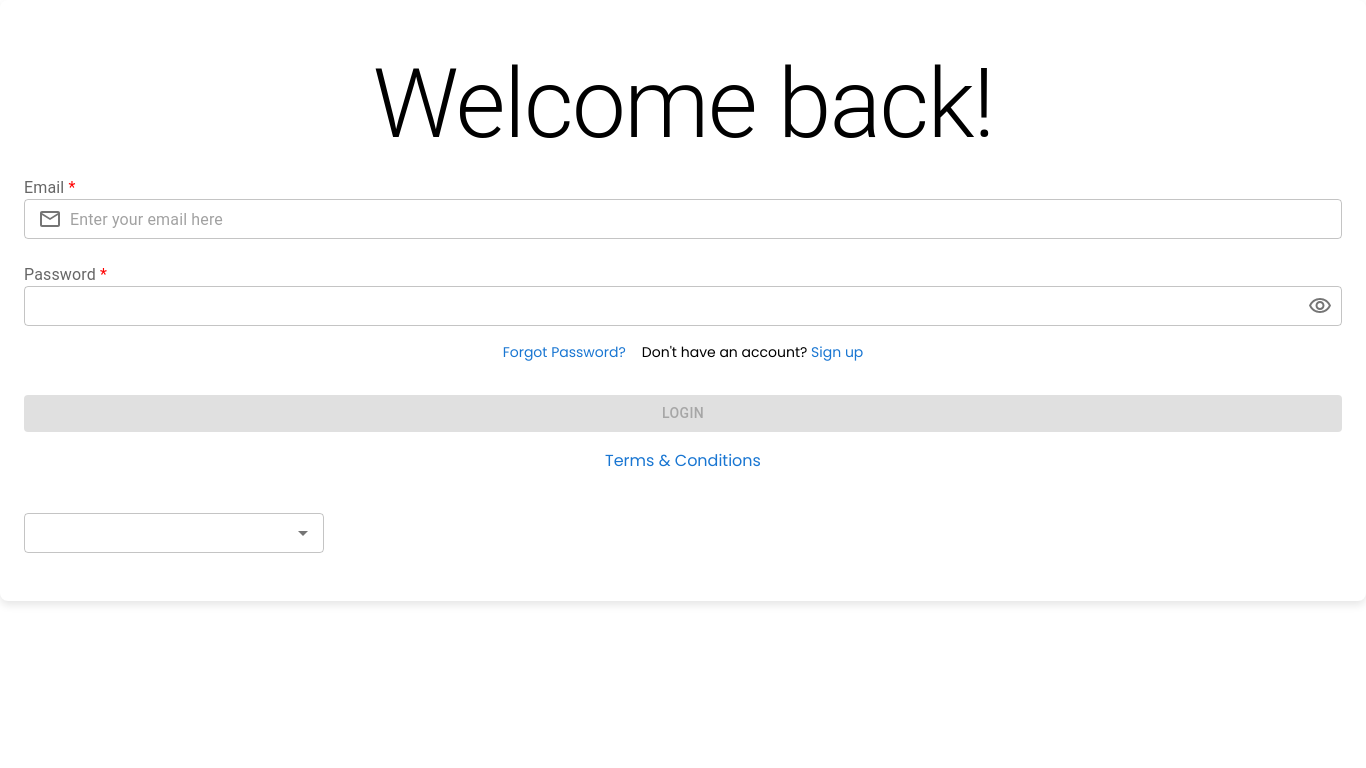
Login Component › disables login button when email or password is empty
Expected: the button "Login" is disabled, [24,395,1342,432]
Type "test" into the field with placeholder "Enter your email here" at (706, 219), box [70,199,1342,239]
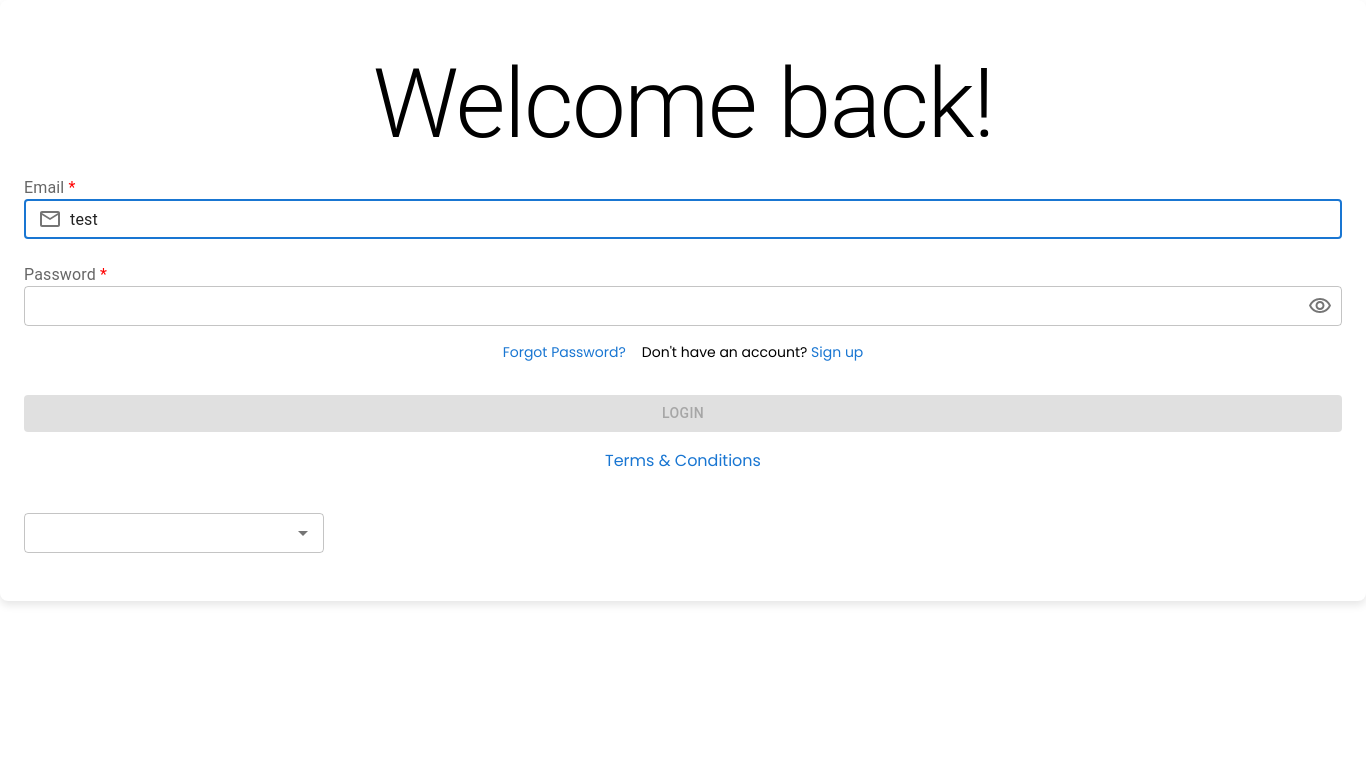
Expected: the button "Login" is disabled, [24,395,1342,432]
Type "test" into the password field labelled "Password *" at (658, 306), box [24,286,1292,326]
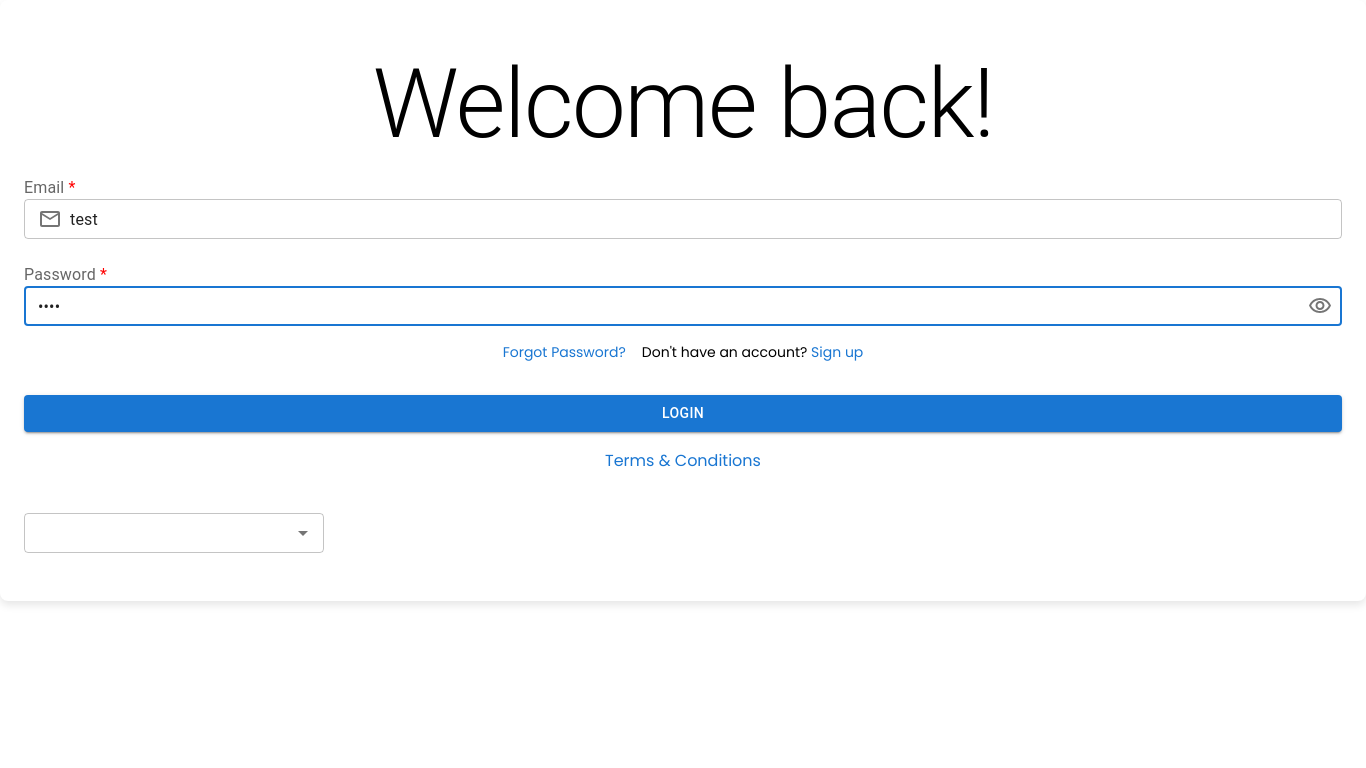
Expected: the button "Login" is enabled, [24,395,1342,432]
Clear the field with placeholder "Enter your email here" at (706, 219), box [70,199,1342,239]
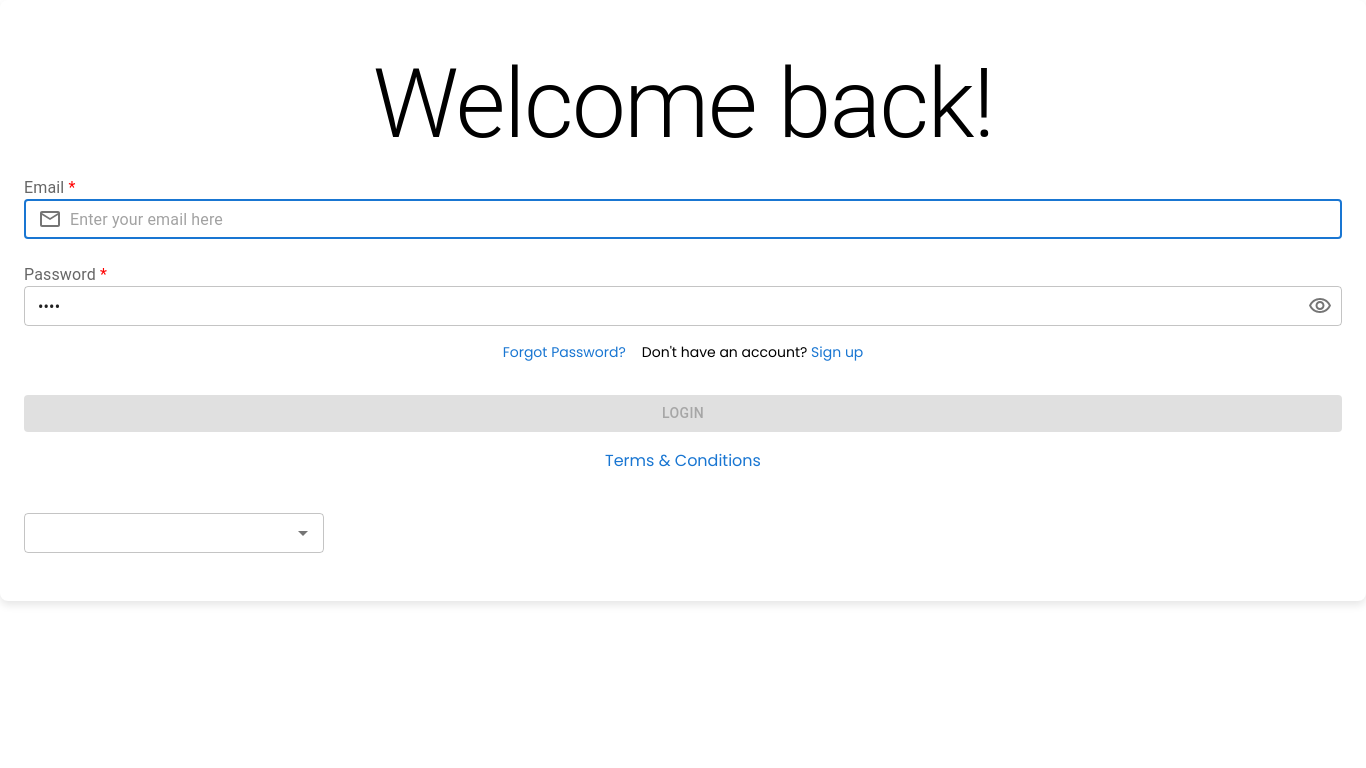
Expected: the button "Login" is disabled, [24,395,1342,432]
